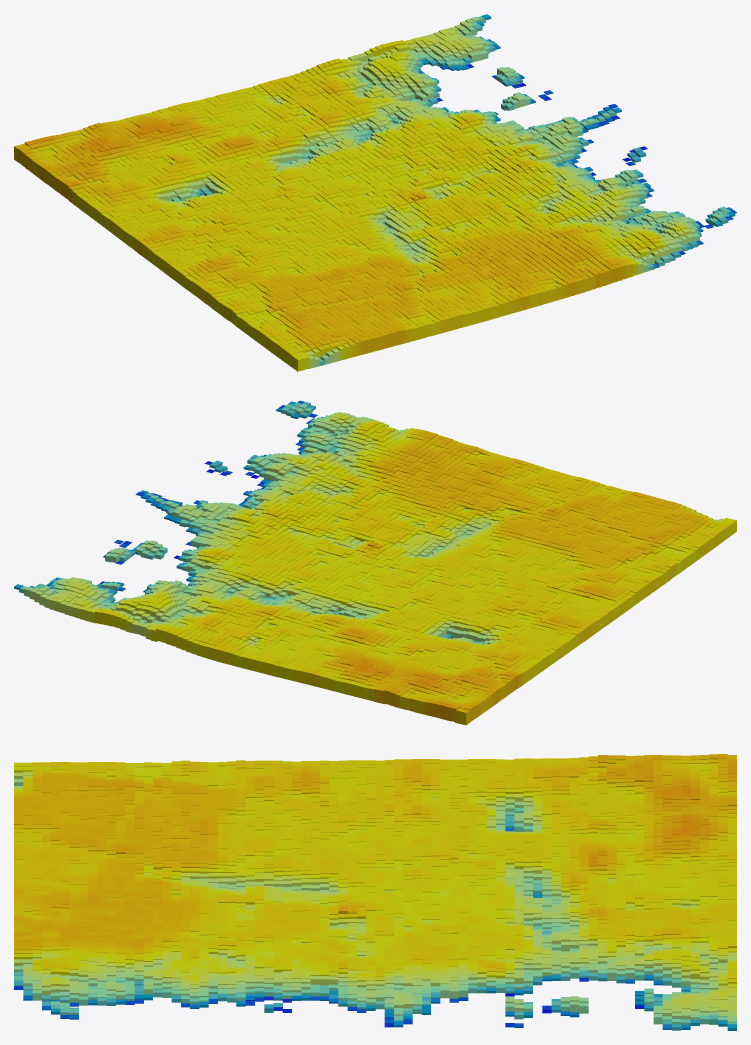
File: population.glb
The picture shows the model from 3 angles, top to bottom: view 1: azimuth 30°, elevation 25°; view 2: azimuth 150°, elevation 25°; view 3: azimuth 270°, elevation 25°; orthographic projection. The views are drawn at different scales.
Parts seen in each view (by area): view 1: population; view 2: population; view 3: population.
Part boxes in pixels (x1,y1,x2,y2): population: (14, 14, 736, 371); population: (14, 400, 736, 725); population: (14, 754, 736, 1030).
Size of the model in its own units: 7478 by 580 by 7759.
